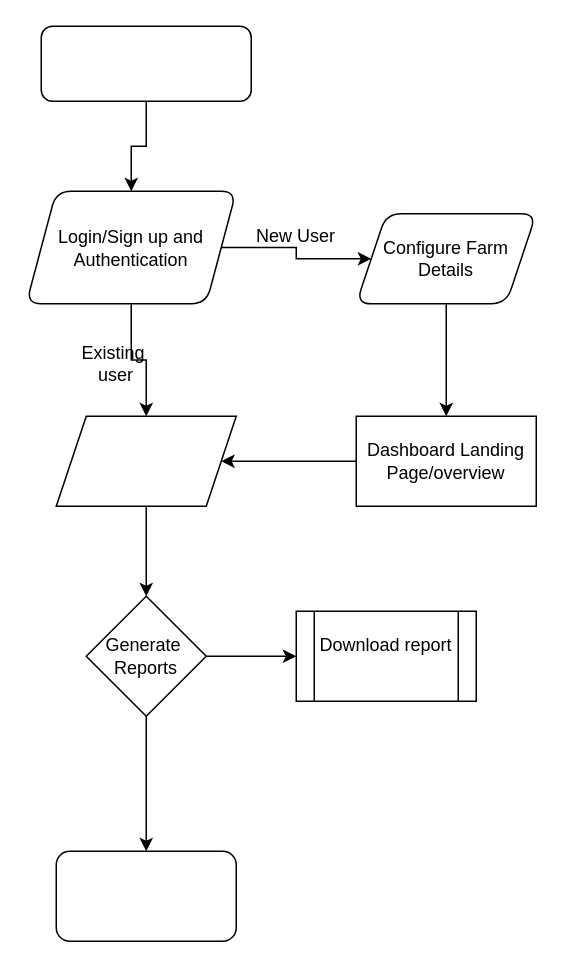
Some shapes in this 563 by 968 pixel diagram are drawn without their labels. The shapes that lost their labels are listed below. From the top down, each one's centre as x and y in pixels, then its label:
At pixel 145 63: "Start".
At pixel 145 460: "Sensor Reading Display".
At pixel 145 895: "End".
